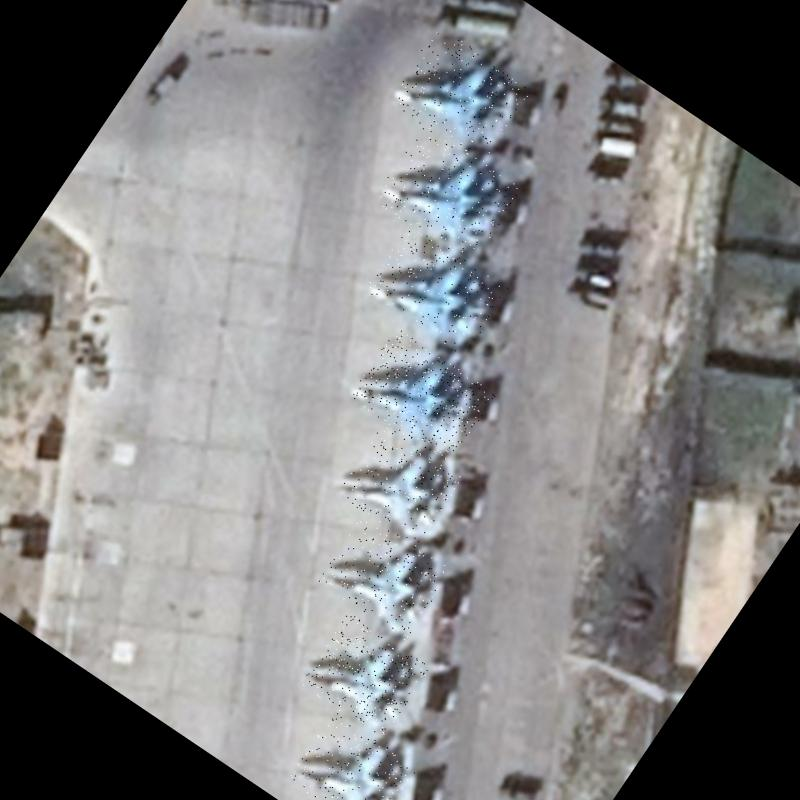A1: (318, 511, 453, 641), (300, 612, 430, 740), (334, 424, 464, 550), (287, 711, 419, 800)
A19: (372, 123, 522, 266), (386, 25, 532, 165), (348, 328, 496, 465), (364, 222, 510, 358)
